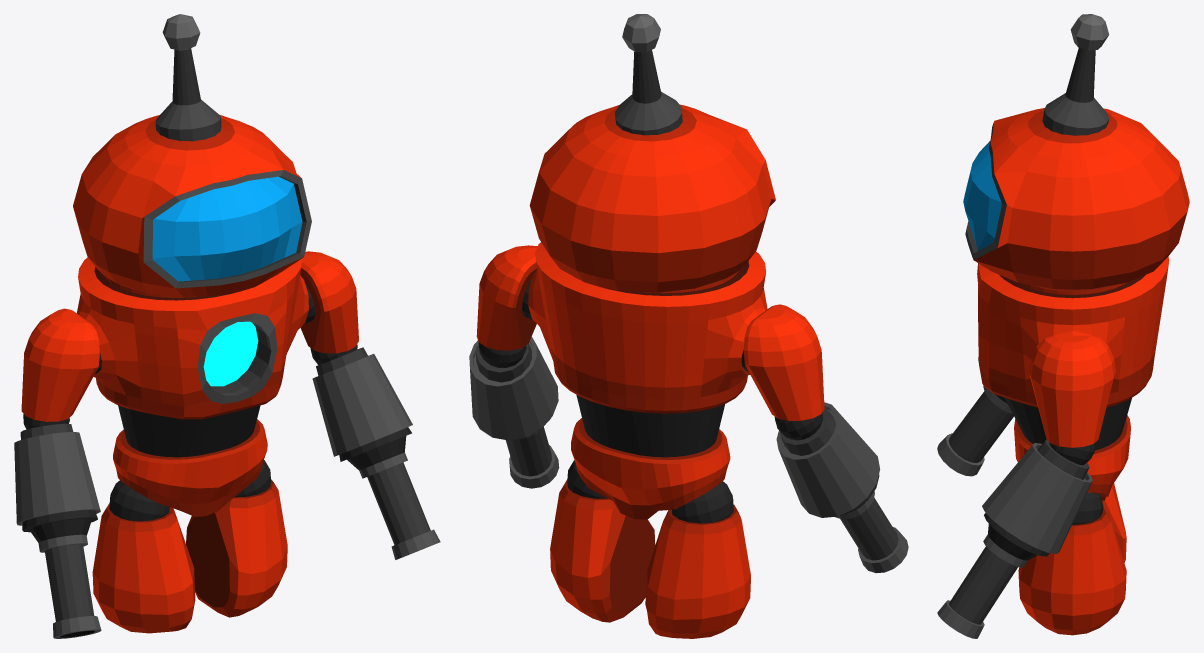
Rendered from Robot1.glb.
The picture shows the model from 3 angles, left to right: view 1: azimuth 30°, elevation 25°; view 2: azimuth 150°, elevation 25°; view 3: azimuth 270°, elevation 25°; orthographic projection. The views are drawn at different scales.
Parts seen in each view (by area): view 1: Body, Head, Arms, Legs; view 2: Body, Head, Arms, Legs; view 3: Head, Arms, Body, Legs.
Boxes of the visible parts, x1,y1,x2,y2 form: Body: (77, 257, 308, 516); Head: (73, 14, 311, 297); Arms: (14, 251, 440, 638); Legs: (92, 460, 287, 633); Body: (528, 242, 767, 519); Head: (529, 14, 775, 292); Arms: (469, 245, 908, 573); Legs: (550, 460, 750, 638); Head: (963, 14, 1189, 289); Arms: (937, 335, 1115, 638); Body: (977, 256, 1169, 500); Legs: (1018, 483, 1126, 635).
Size of the model in its own units: 2.52 by 3.66 by 1.43.
Materials: 1 (1 with a texture image).
